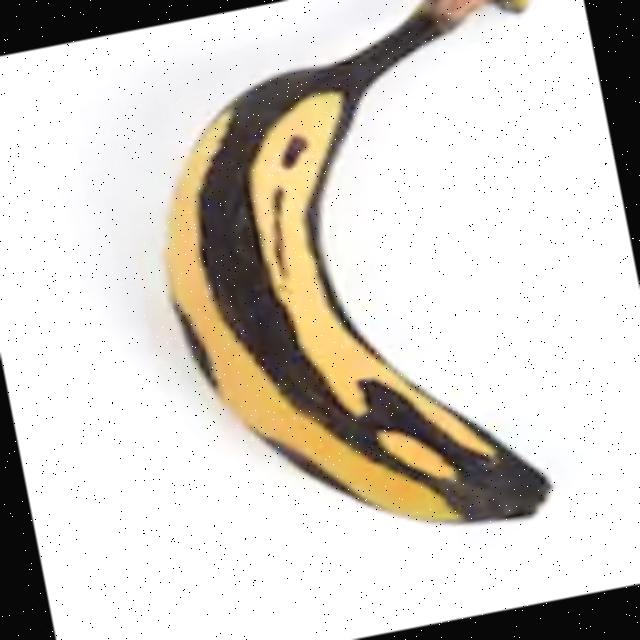Rotten: (86, 0, 640, 595)
